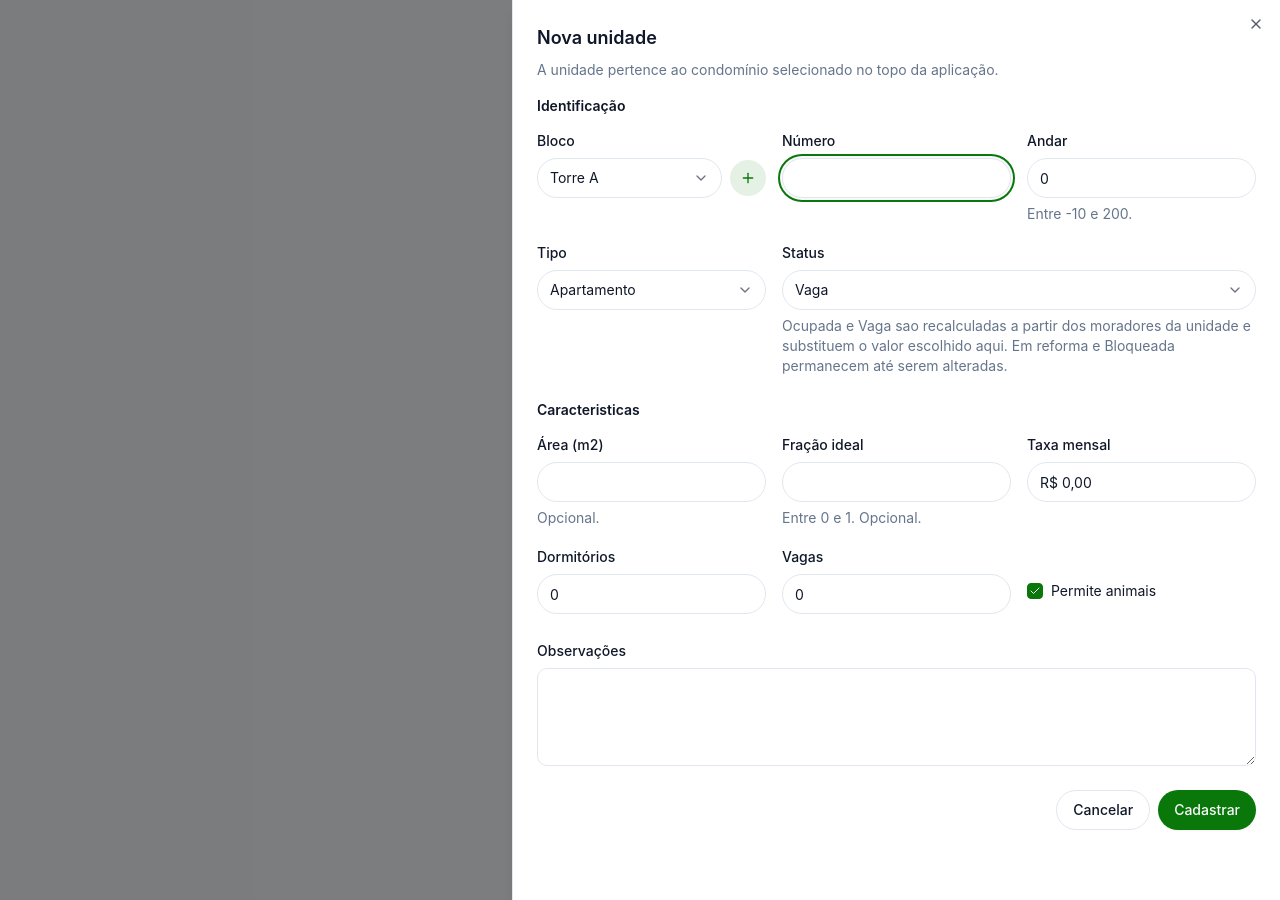
it: Cadastro de unidade › IT-058: 409 por número de unidade removida mostra a mensagem do servidor
Type "999" into the field labelled "Número" at (896, 178), box [782,158,1011,198]
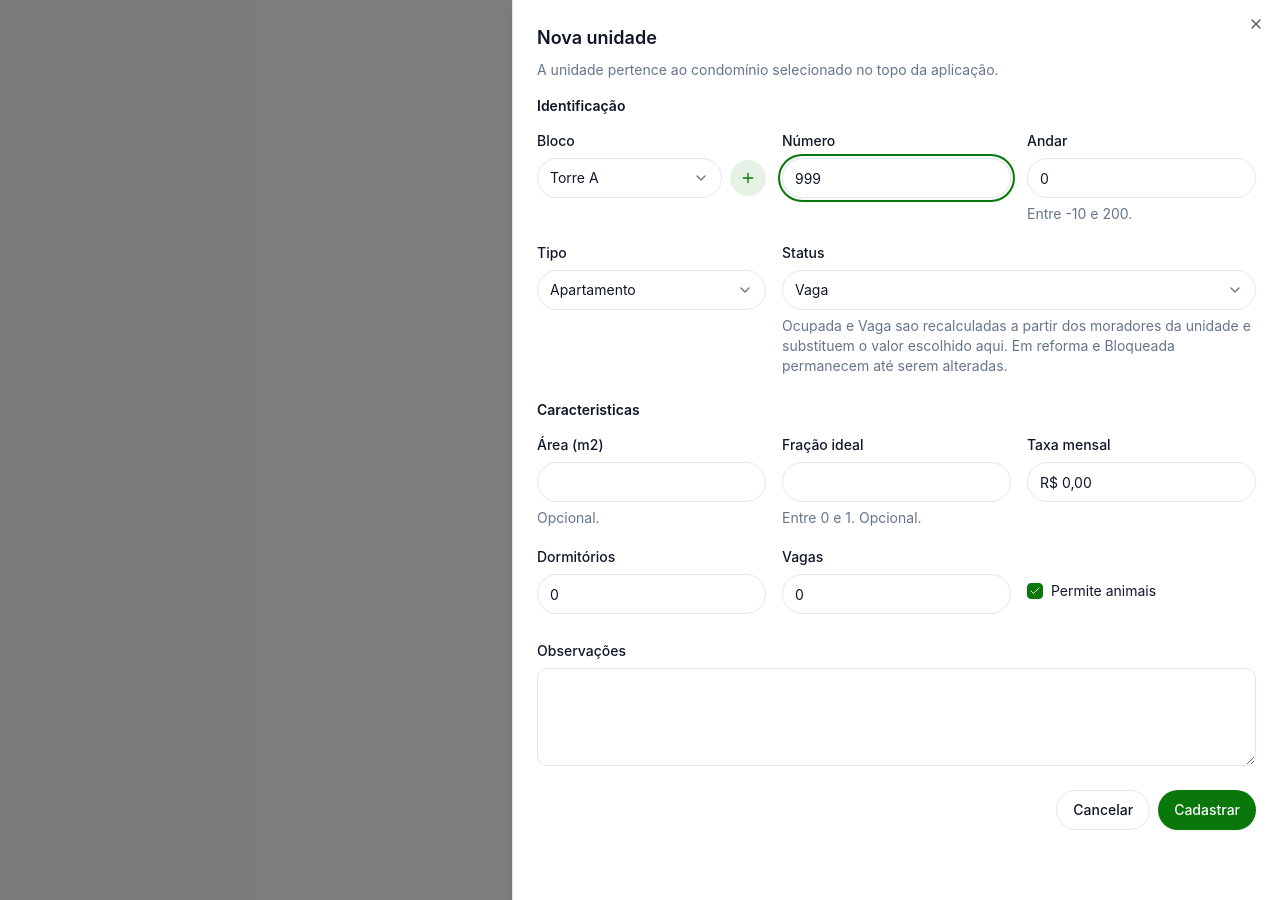
Click the button "Cadastrar" at (1207, 810), box [1158,790,1256,830]
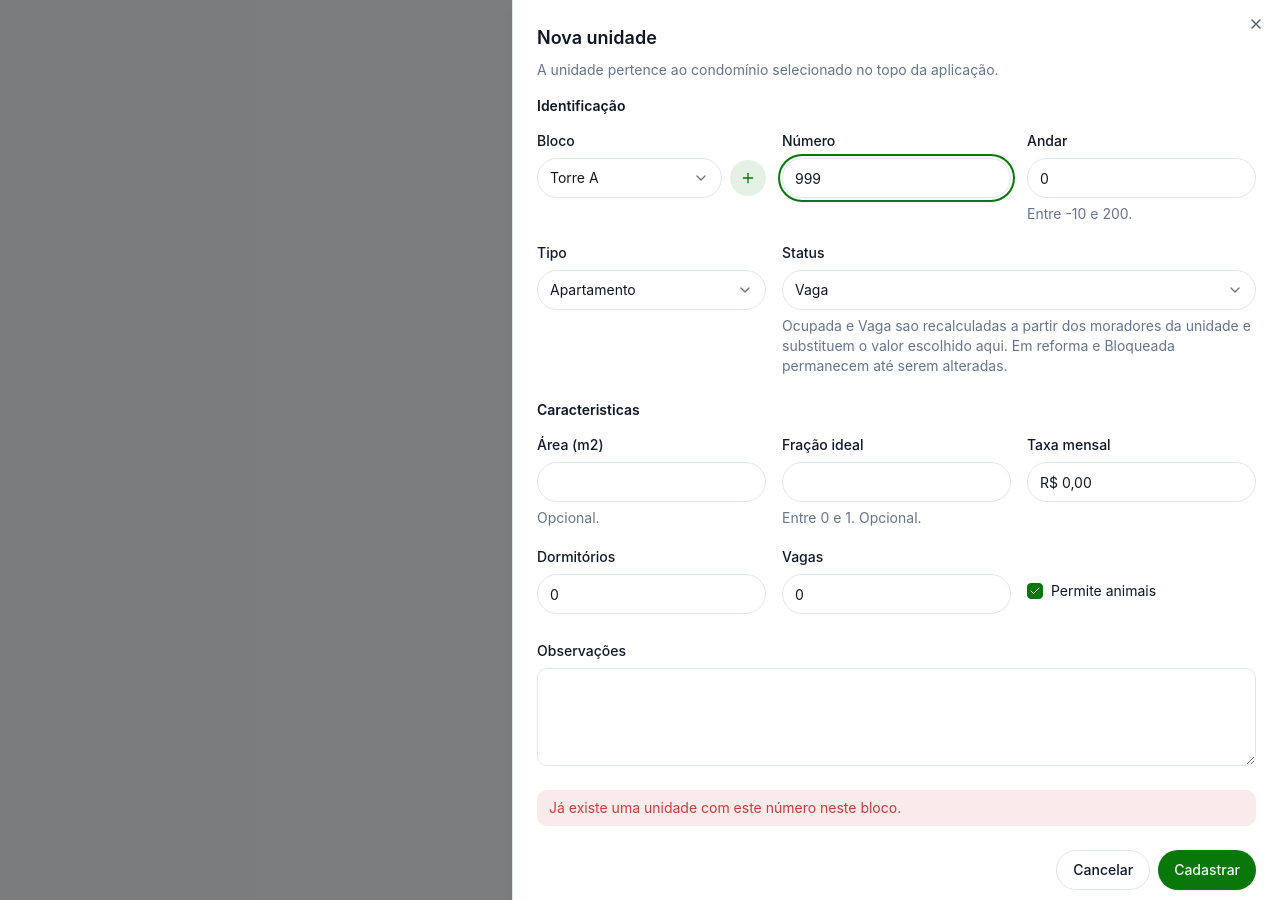
Expected: the text "Já existe uma unidade com este número neste bloco." is shown, [549,799,901,816]
